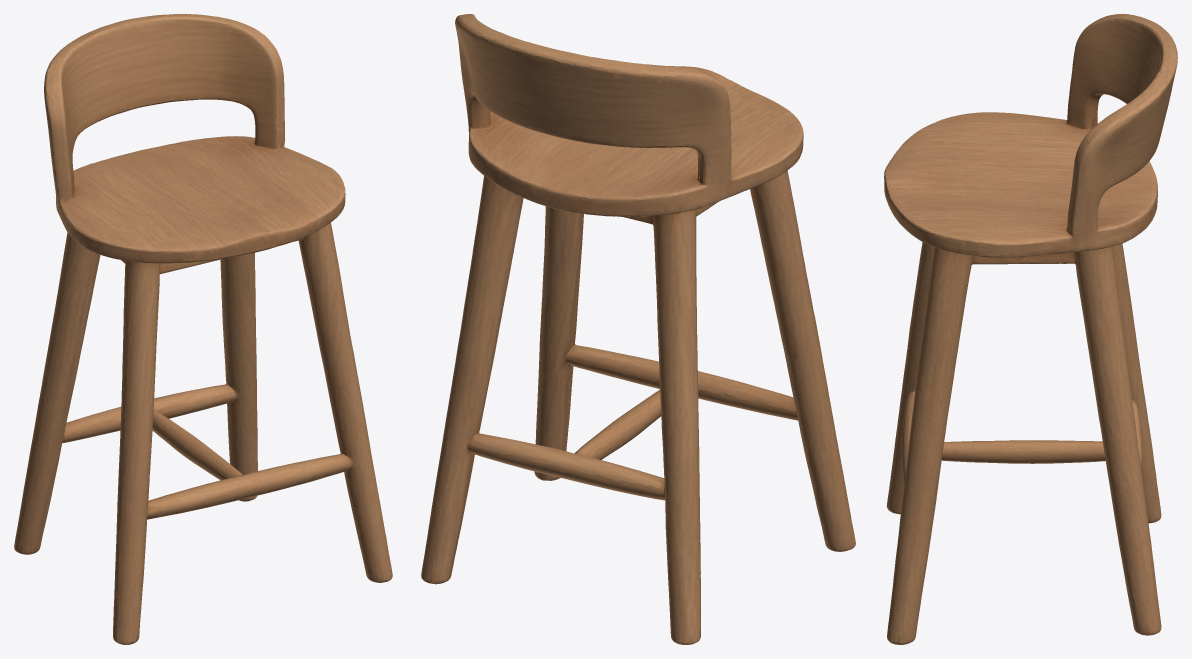
Rendered from item_aaaec093.glb.
The picture shows the model from 3 angles, left to right: view 1: azimuth 30°, elevation 25°; view 2: azimuth 150°, elevation 25°; view 3: azimuth 270°, elevation 25°; orthographic projection. The views are drawn at different scales.
Visible parts, largest first — view 1: world; view 2: world; view 3: world.
Boxes of the visible parts, bbox=[...] form: world: bbox=[14, 14, 392, 644]; world: bbox=[421, 14, 855, 644]; world: bbox=[884, 14, 1177, 644].
Size of the model in its own units: 0.6133 by 1.05 by 0.5353.
Materials: 1 (1 with a texture image).
